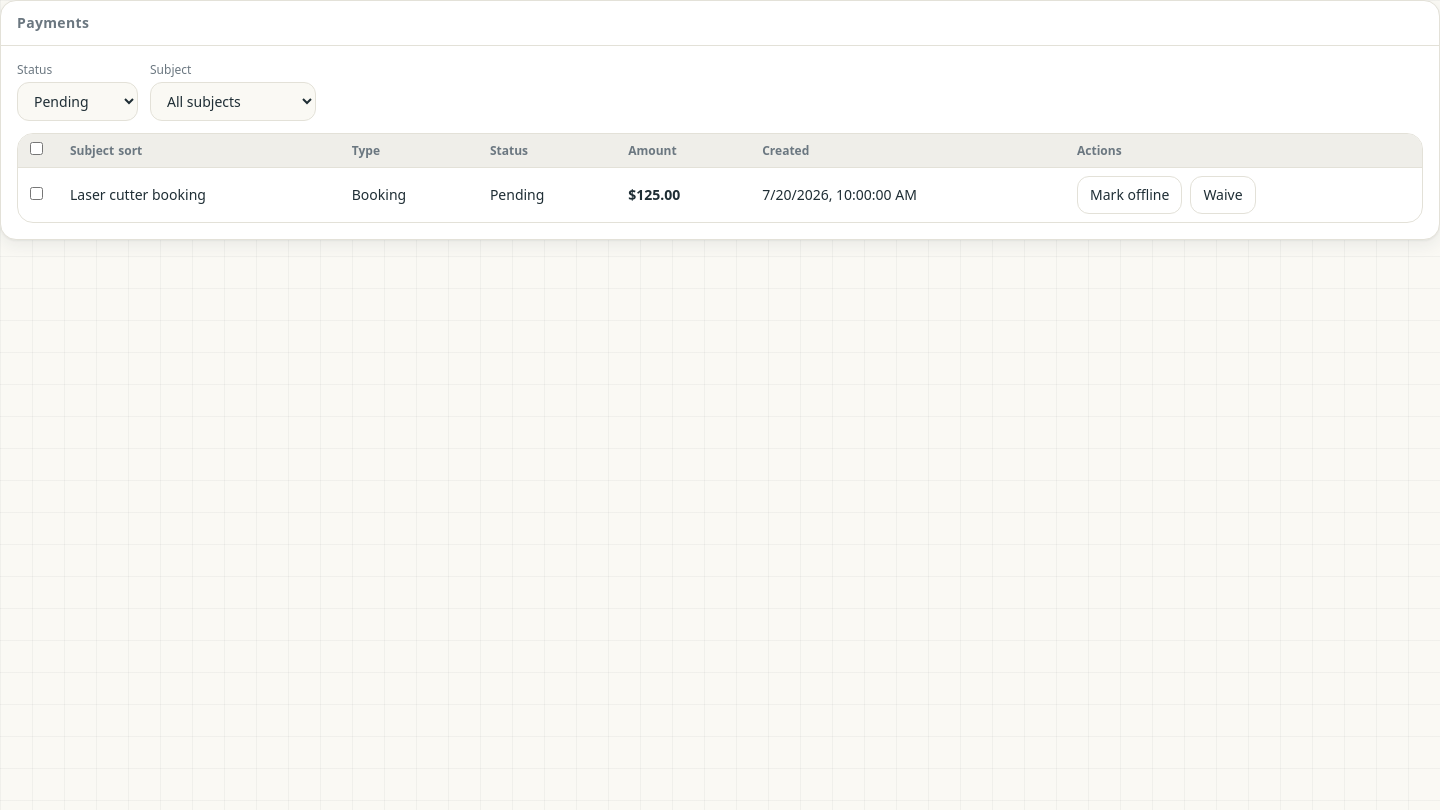
it: PaymentsPanel › keeps the visible list, reports a 409 conflict, and refetches
Expected: the text "Laser cutter booking" is shown, [58,168,340,222]
Click the button "Waive" at coordinates (1223, 195), box [1190,176,1256,214]
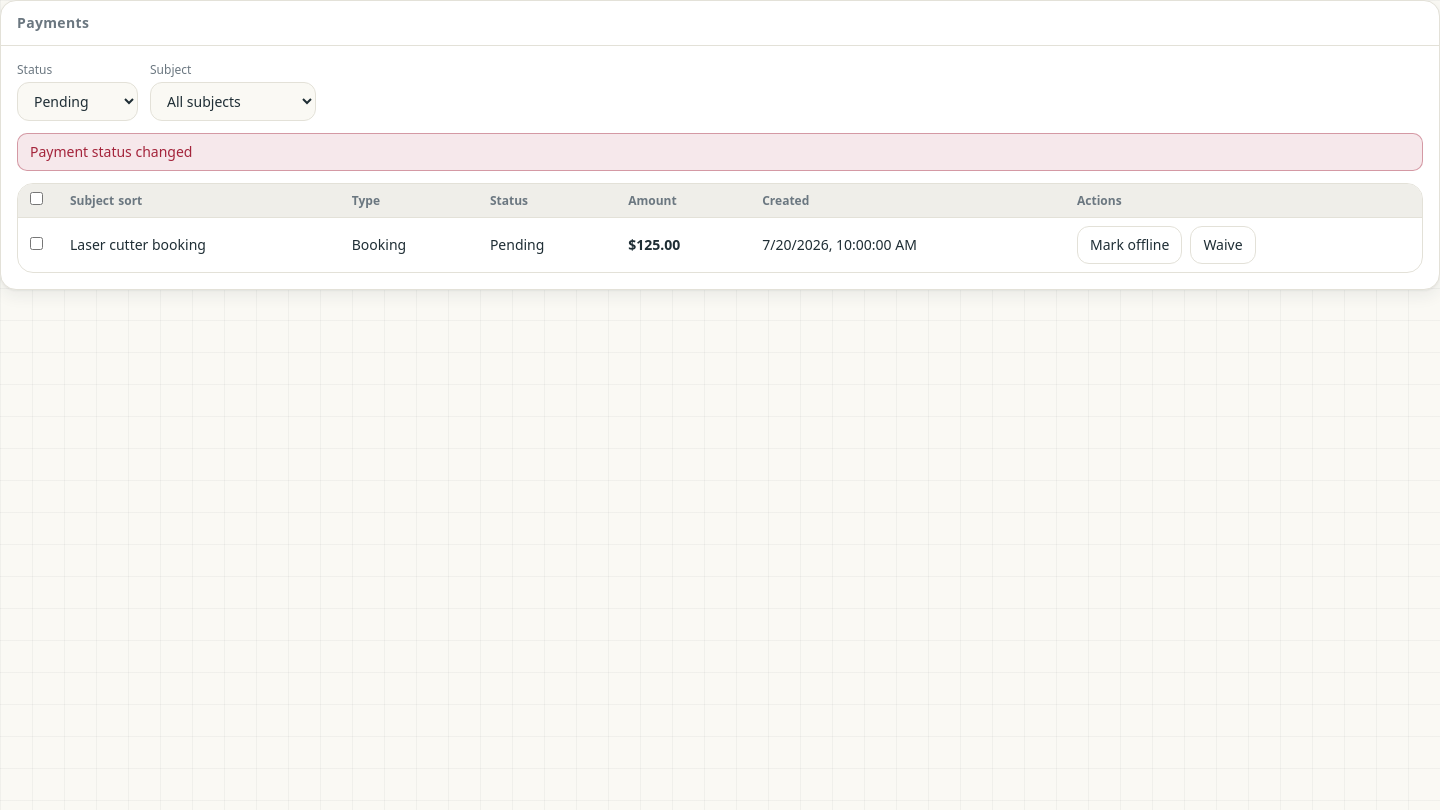
Expected: the text "Laser cutter booking" is shown, [58,218,340,272]
Expected: the message reads "Payment status changed", [30,142,192,161]
